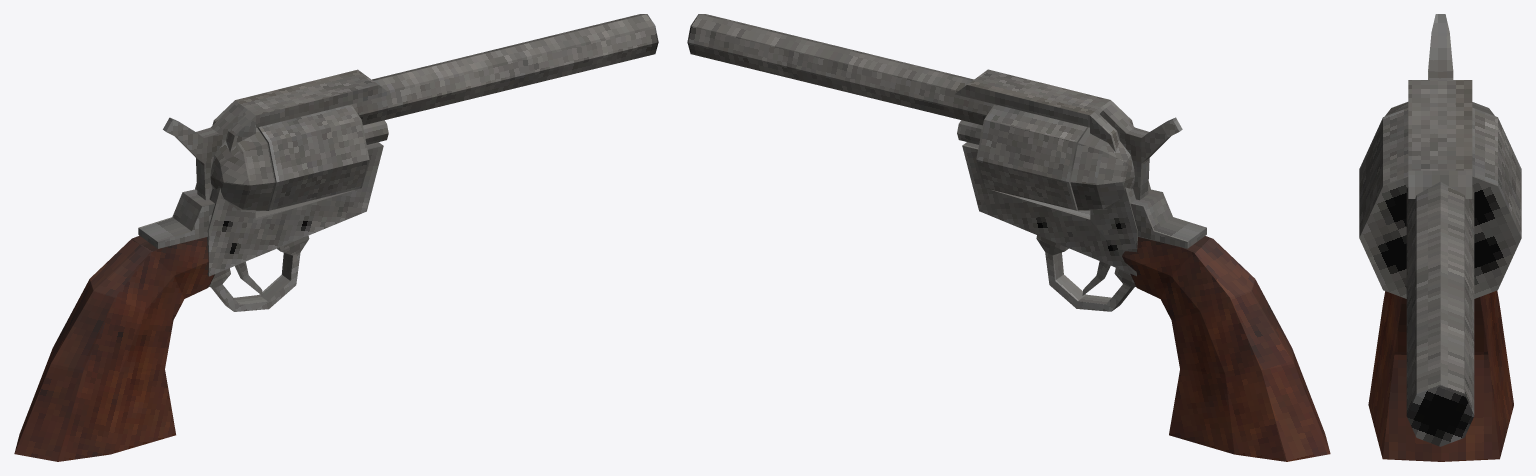
The model's file is colt_peacemaker.glb.
3 renders of one model, left to right at view 1: azimuth 30°, elevation 25°; view 2: azimuth 150°, elevation 25°; view 3: azimuth 270°, elevation 25°, orthographic. The views are drawn at different scales.
Parts seen in each view (by area): view 1: Object_2; view 2: Object_2; view 3: Object_2.
Boxes of the visible parts, left/top/right/bottom form: Object_2: left=14, top=14, right=658, bottom=461; Object_2: left=687, top=14, right=1330, bottom=461; Object_2: left=1359, top=14, right=1521, bottom=461.
Size of the model in its own units: 0.2977 by 0.1345 by 0.0434.
1 material, 1 textured.
